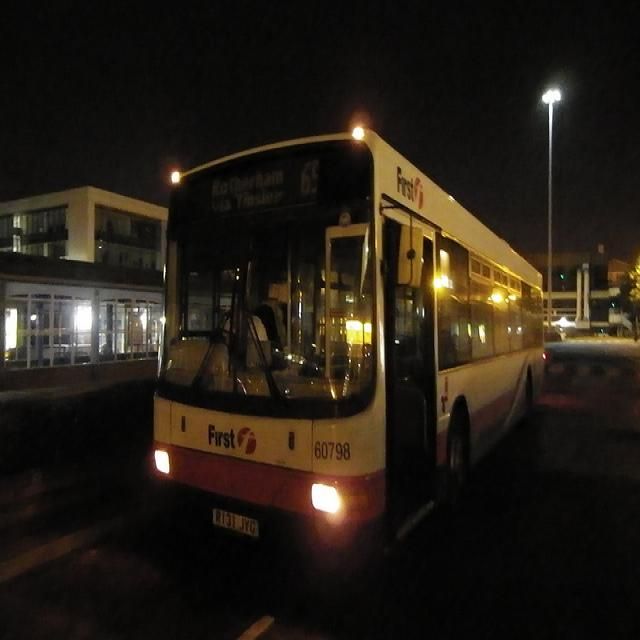Bus: (146, 107, 584, 595)
